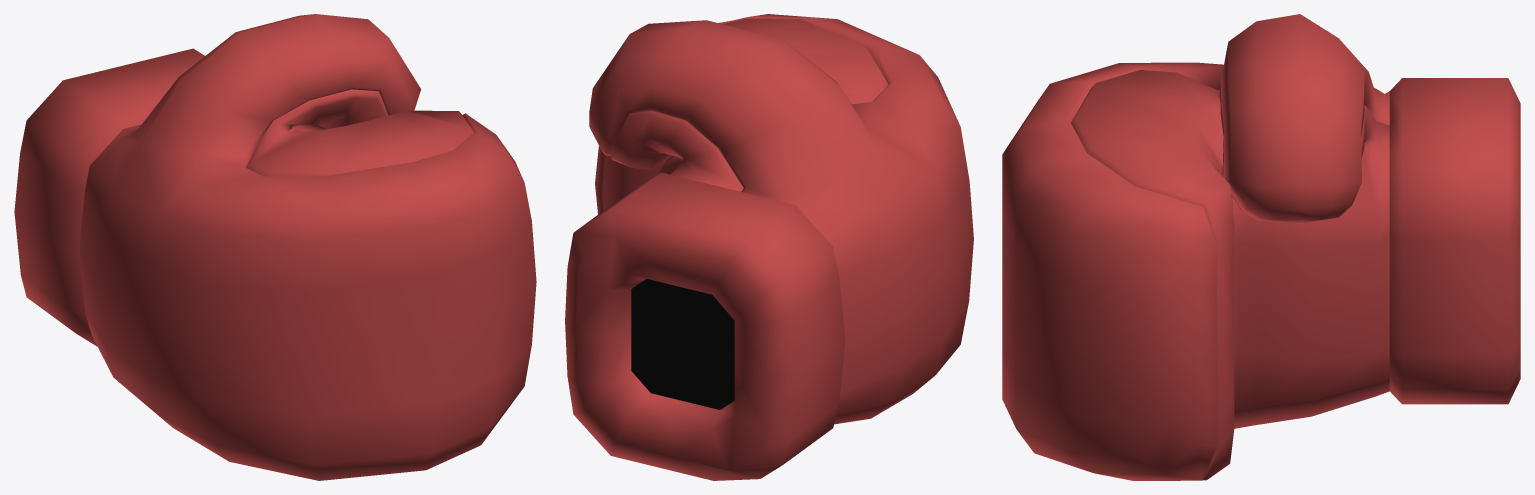
The model's file is boxingGlove.glb.
3 views of the same model, side by side, from view 1: azimuth 30°, elevation 25°; view 2: azimuth 150°, elevation 25°; view 3: azimuth 270°, elevation 25° (orthographic). The views are drawn at different scales.
Parts seen in each view (by area): view 1: boxingGlove; view 2: boxingGlove; view 3: boxingGlove.
Part boxes in pixels (x1,y1,x2,y2): boxingGlove: [14, 14, 536, 480]; boxingGlove: [565, 14, 973, 480]; boxingGlove: [1002, 14, 1520, 480].
Size of the model in its own units: 0.2491 by 0.2488 by 0.2912.
